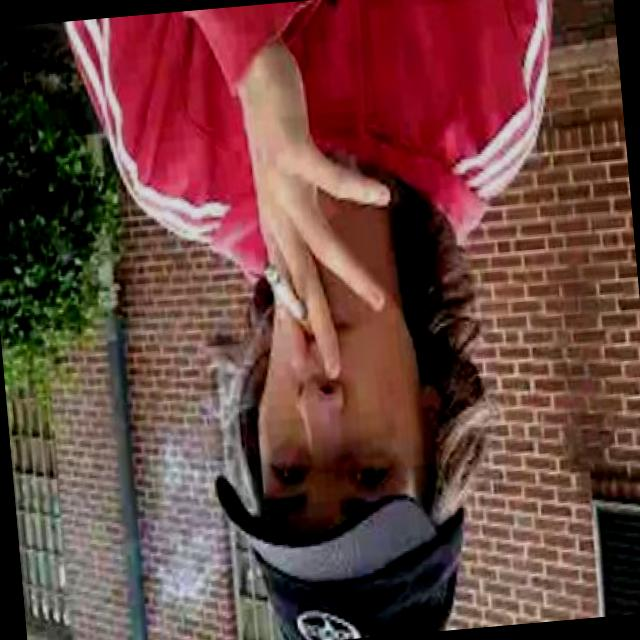cigarette: (252, 248, 329, 358)
